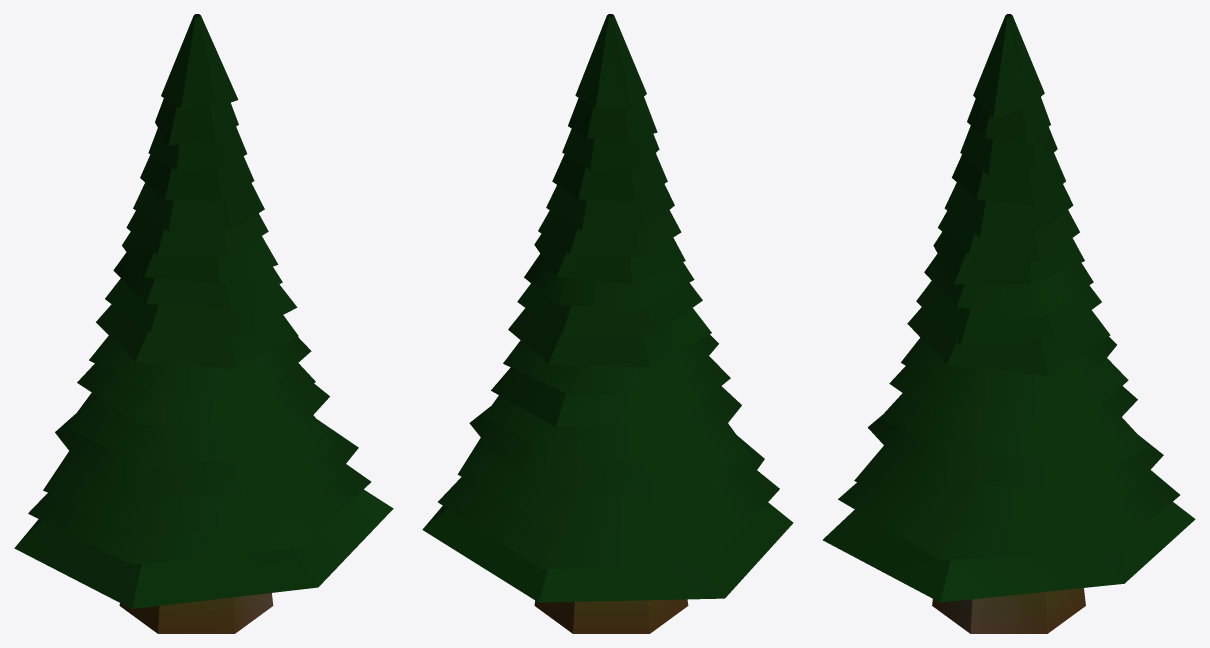
File: Pine_3.glb
The picture shows the model from 3 angles, left to right: view 1: azimuth 30°, elevation 25°; view 2: azimuth 150°, elevation 25°; view 3: azimuth 270°, elevation 25°; orthographic projection.
Visible parts, largest first — view 1: Pine_3; view 2: Pine_3; view 3: Pine_3.
Boxes of the visible parts, x1,y1,x2,y2 form: Pine_3: [14, 14, 393, 633]; Pine_3: [422, 14, 793, 633]; Pine_3: [822, 14, 1195, 633].
Size of the model in its own units: 2.37 by 4.31 by 2.47.
1 material, 1 textured.
